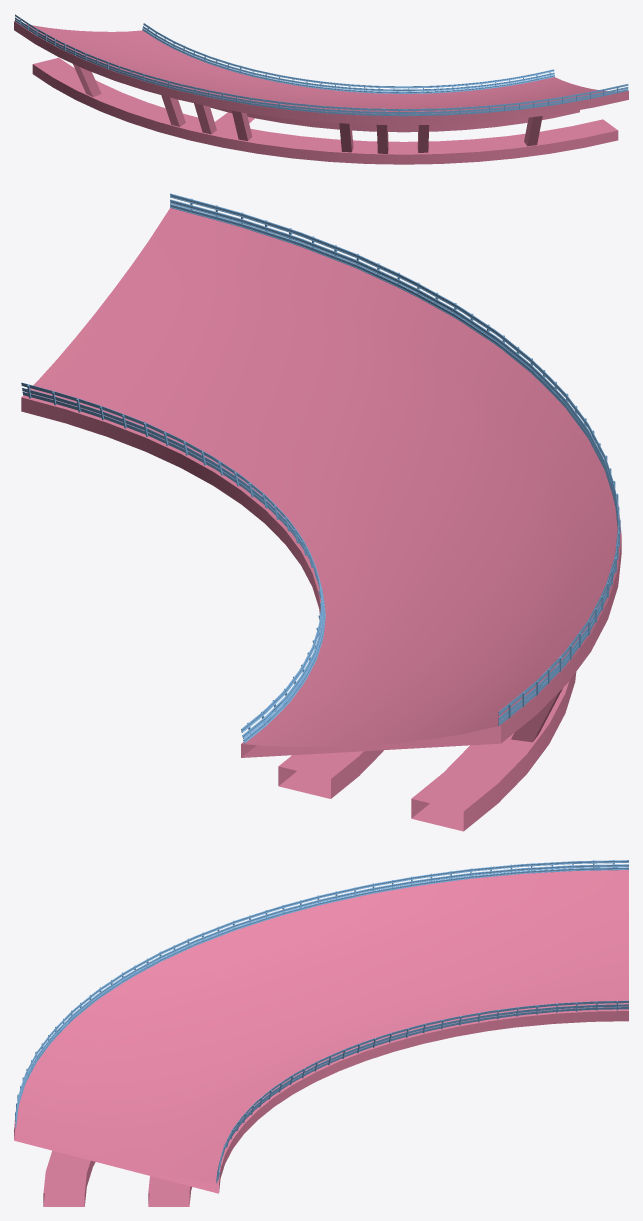
The model's file is RoadBankedTurn.fbx.
The picture shows the model from 3 angles, top to bottom: view 1: azimuth 30°, elevation 25°; view 2: azimuth 150°, elevation 25°; view 3: azimuth 270°, elevation 25°; orthographic projection. The views are drawn at different scales.
Visible parts, largest first — view 1: RoadBankedTurn, RaillingBankedTurn; view 2: RoadBankedTurn, RaillingBankedTurn; view 3: RoadBankedTurn, RaillingBankedTurn.
Part boxes in pixels (x1,y1,x2,y2): RoadBankedTurn: (14, 21, 628, 164); RaillingBankedTurn: (15, 14, 628, 116); RoadBankedTurn: (21, 208, 621, 831); RaillingBankedTurn: (21, 193, 620, 743); RoadBankedTurn: (14, 870, 628, 1206); RaillingBankedTurn: (15, 860, 628, 1183).
Bounding box in the file's own units: 6000 × 943 × 6000.
